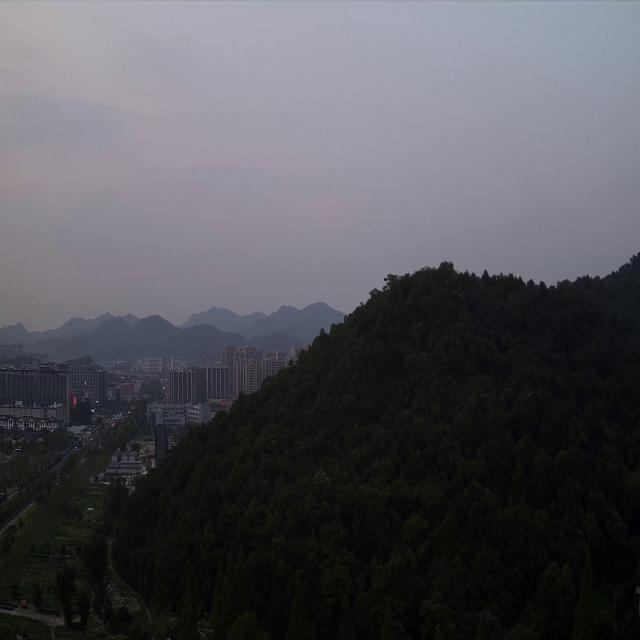UAV: (526, 390, 534, 400)
